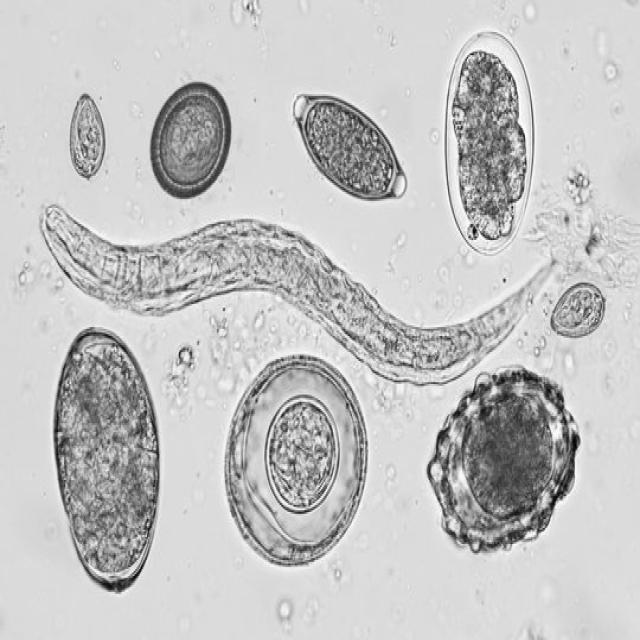Ancylostoma Spp: (440, 25, 535, 263)
Ascaris Lumbricoides: (420, 357, 580, 558)
Fasciola Hepatica: (47, 322, 166, 594)
Hymenolepis: (217, 348, 373, 576)
Taenia Sp: (144, 77, 232, 196)
Trichuris Trichiura: (290, 89, 407, 206)
